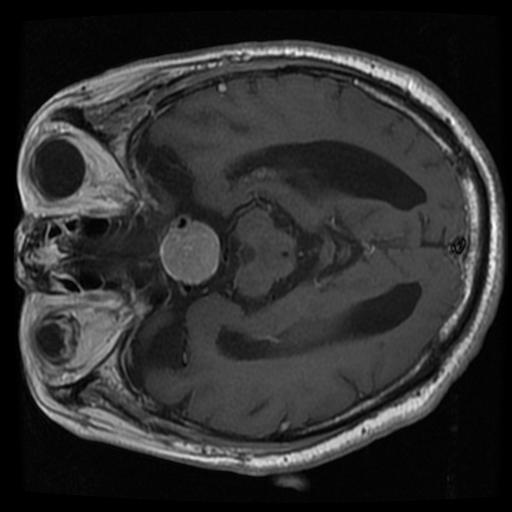pituitary tumour: (159, 223, 219, 284)
